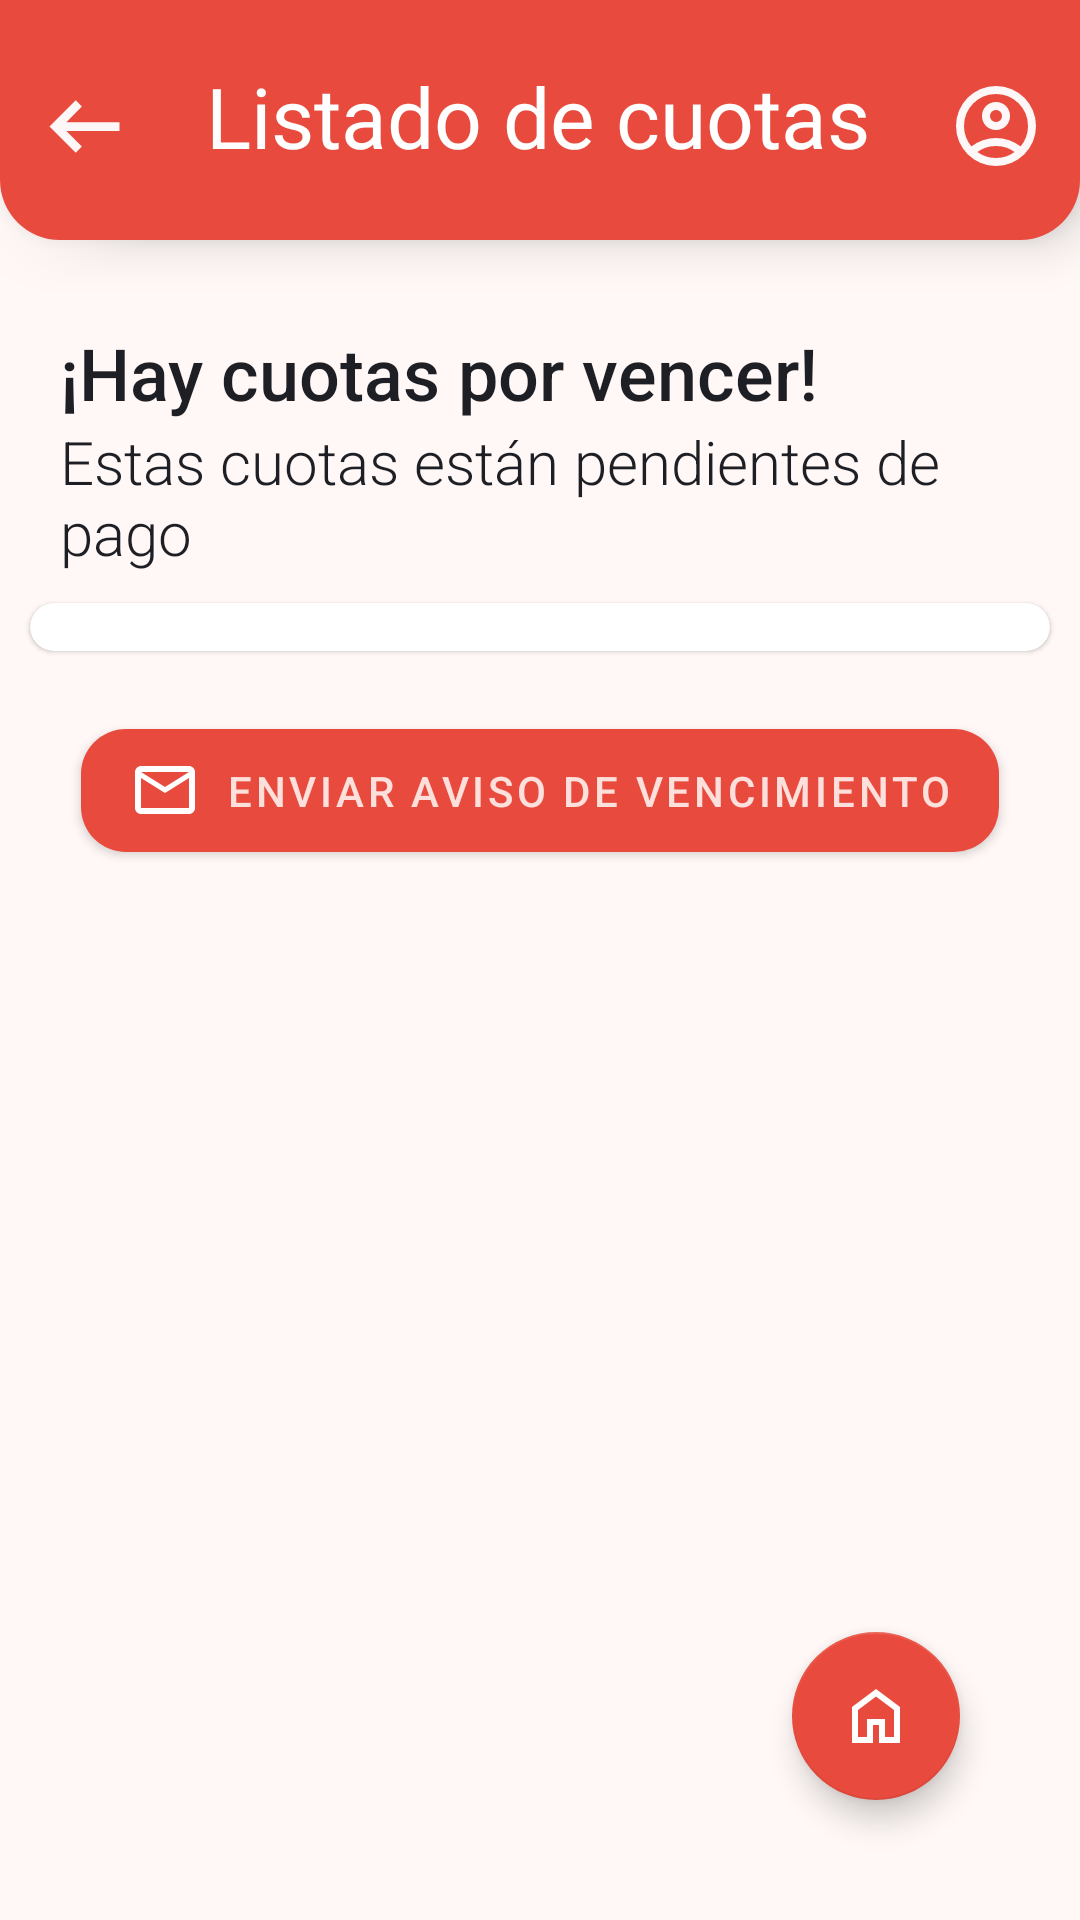

Icons on this 1080w x 1920h Android screen, each with its box as {"x1": x1, "y1": y1, "x2": x2, "y2": y2}:
home: {"x1": 792, "y1": 1632, "x2": 960, "y2": 1800}
